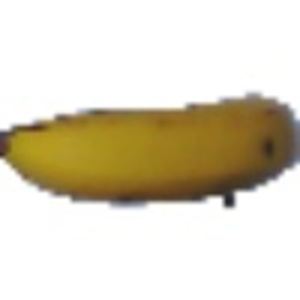banana: (1, 89, 296, 211)
